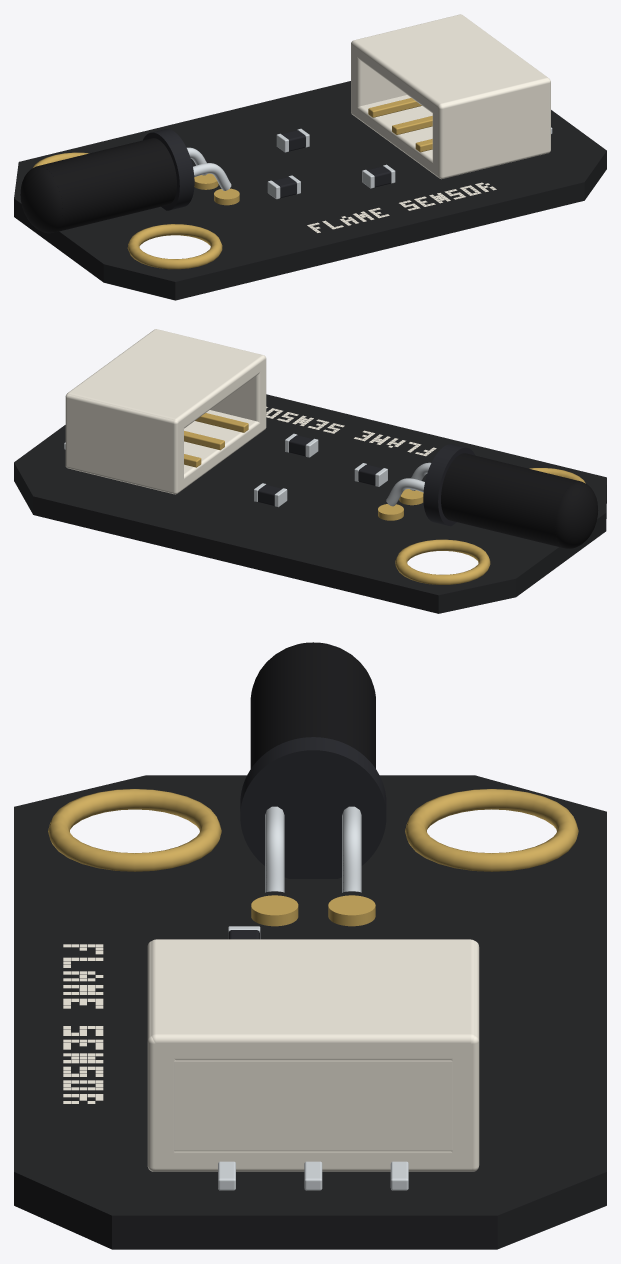
Rendered from sensors-32.glb.
3 renders of one model, top to bottom at view 1: azimuth 30°, elevation 25°; view 2: azimuth 150°, elevation 25°; view 3: azimuth 270°, elevation 25°, orthographic. The views are drawn at different scales.
Parts seen in each view (by area): view 1: board, socket, detector, mounts, passives, leads; view 2: board, socket, detector, mounts, passives, leads; view 3: board, socket, detector, mounts, leads.
Boxes of the visible parts, x1,y1,x2,y2 form: board: (14,81,606,300); socket: (351,14,552,179); detector: (20,129,194,233); mounts: (33,152,222,269); passives: (267,128,395,199); leads: (187,147,239,205); board: (14,394,606,613); socket: (64,329,266,494); detector: (423,444,598,548); mounts: (395,468,585,584); passives: (254,433,387,507); leads: (378,462,431,520); board: (14,775,606,1249); socket: (147,939,479,1190); detector: (240,642,386,878); mounts: (48,789,578,871); leads: (251,806,375,926).
Size of the model in its own units: 1.92 by 0.3305 by 1.03.
